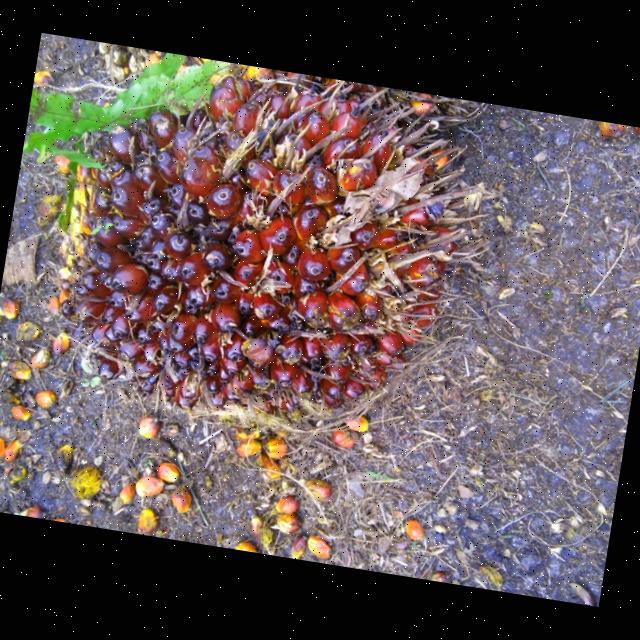Ripe: (51, 73, 480, 429)
